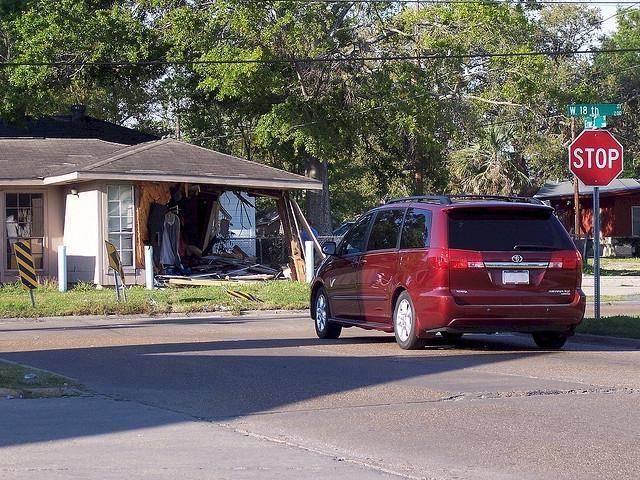car: (309, 195, 586, 350)
